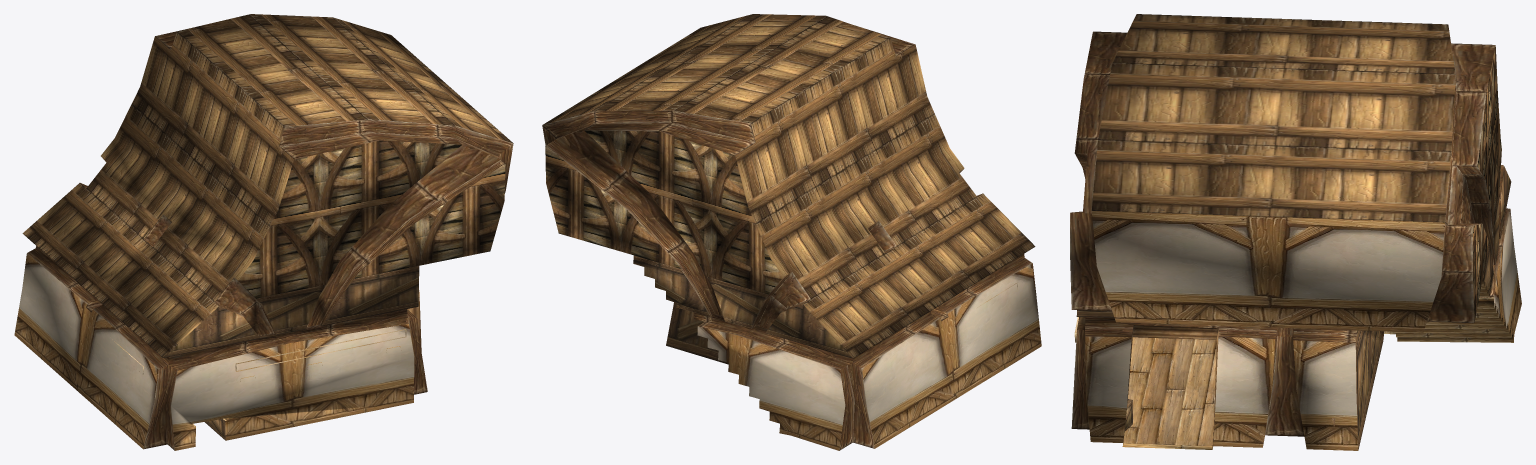
File: stormwind_069.fbx
The picture shows the model from 3 angles, left to right: view 1: azimuth 30°, elevation 25°; view 2: azimuth 150°, elevation 25°; view 3: azimuth 270°, elevation 25°; orthographic projection. The views are drawn at different scales.
Visible parts, largest first — view 1: stormwind_069_55, stormwind_069_48, stormwind_069_49, stormwind_069_53, stormwind_069_56, stormwind_069_54; view 2: stormwind_069_55, stormwind_069_48, stormwind_069_49, stormwind_069_53, stormwind_069_56; view 3: stormwind_069_55, stormwind_069_48, stormwind_069_53, stormwind_069_51, stormwind_069_49, stormwind_069_56.
Part boxes in pixels (<box>): stormwind_069_55: <box>22,14,512,357</box>; stormwind_069_48: <box>14,253,414,450</box>; stormwind_069_49: <box>238,140,505,351</box>; stormwind_069_53: <box>27,31,513,450</box>; stormwind_069_56: <box>164,266,419,440</box>; stormwind_069_54: <box>112,329,406,426</box>; stormwind_069_55: <box>543,14,1035,358</box>; stormwind_069_48: <box>676,263,1041,450</box>; stormwind_069_49: <box>545,130,783,294</box>; stormwind_069_53: <box>542,27,1032,450</box>; stormwind_069_56: <box>633,255,852,364</box>; stormwind_069_55: <box>1091,14,1455,222</box>; stormwind_069_48: <box>1085,209,1521,450</box>; stormwind_069_53: <box>1070,31,1513,449</box>; stormwind_069_51: <box>1123,337,1216,445</box>; stormwind_069_49: <box>1123,46,1501,448</box>; stormwind_069_56: <box>1076,166,1511,449</box>.
Bounding box in the file's own units: 18.99 × 13.59 × 15.76.
